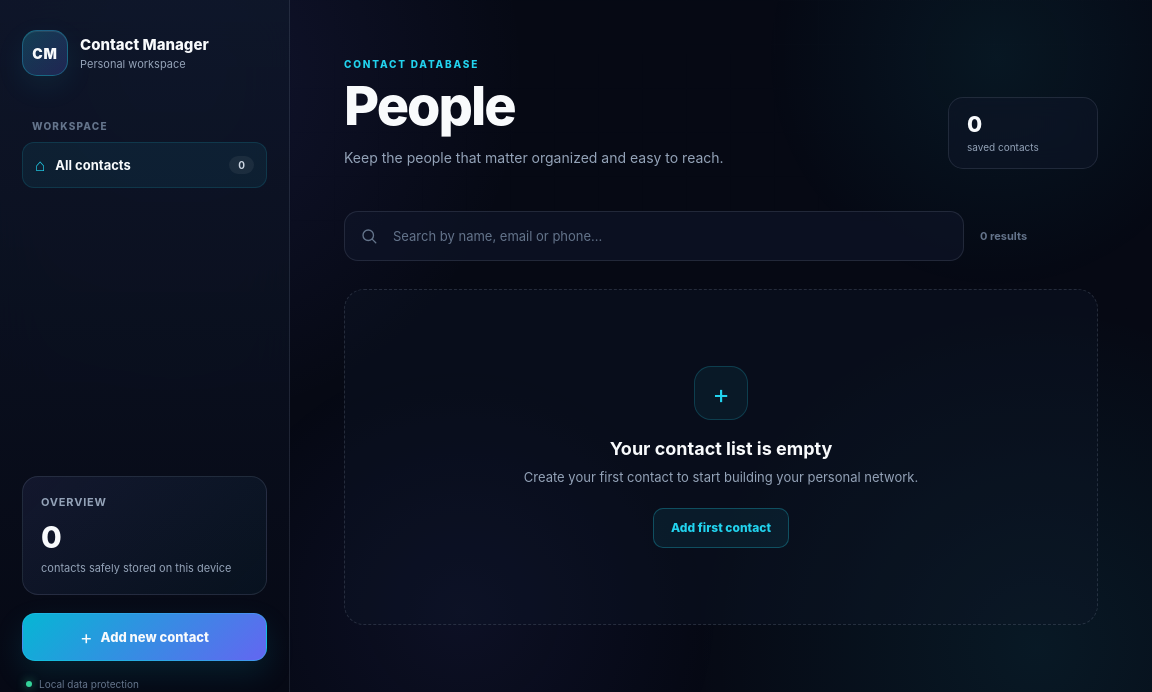
Test case: Contact Manager › validates invalid contact data
This screenshot has width=1152, height=692.
Click the button "+ Add new contact": (145, 637) [22, 613, 267, 661]
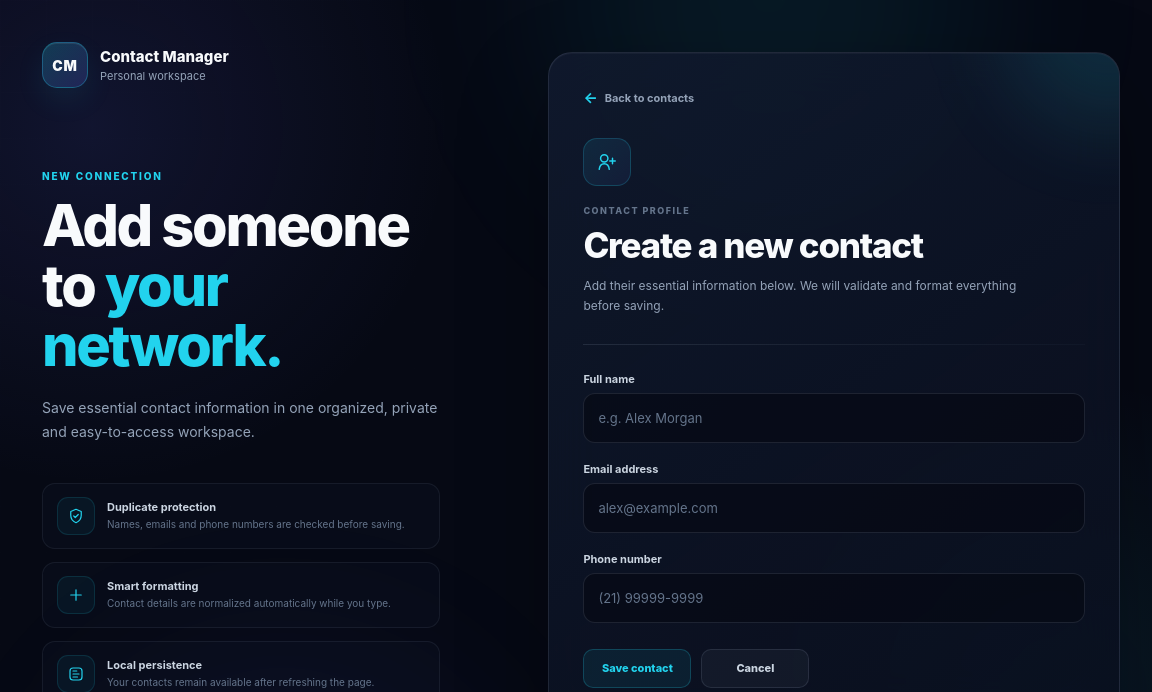
In the field with id "name": (834, 418) [583, 393, 1085, 443], type "A"
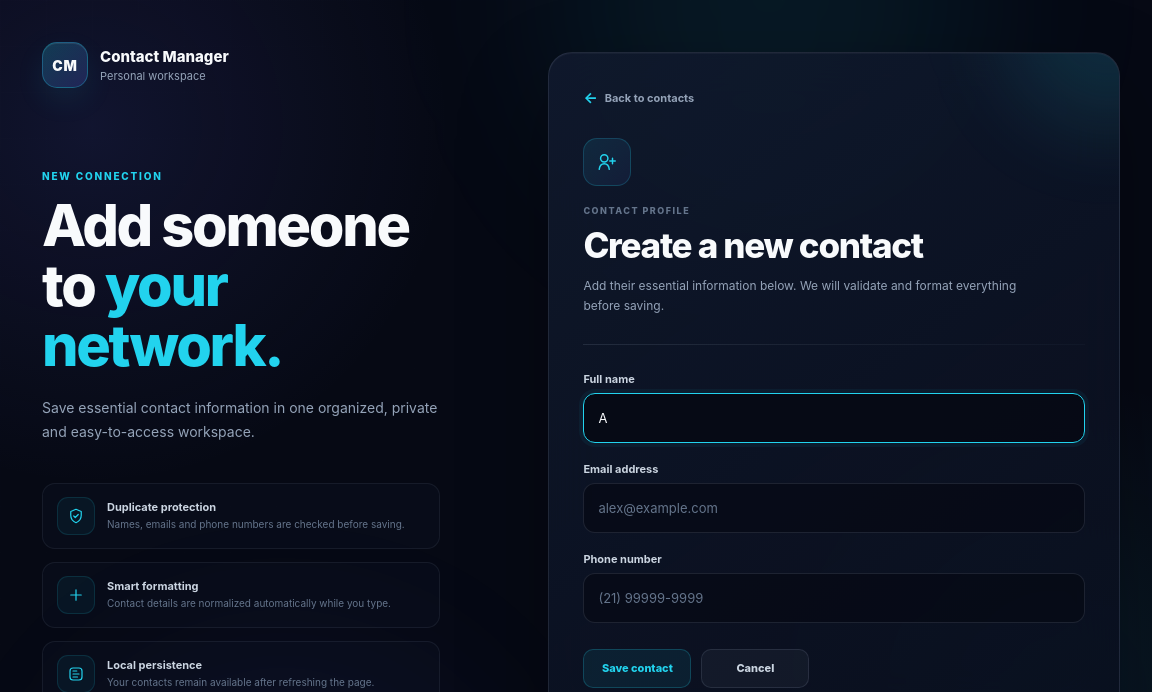
In the field with id "email": (834, 508) [583, 483, 1085, 533], type "invalid-email"
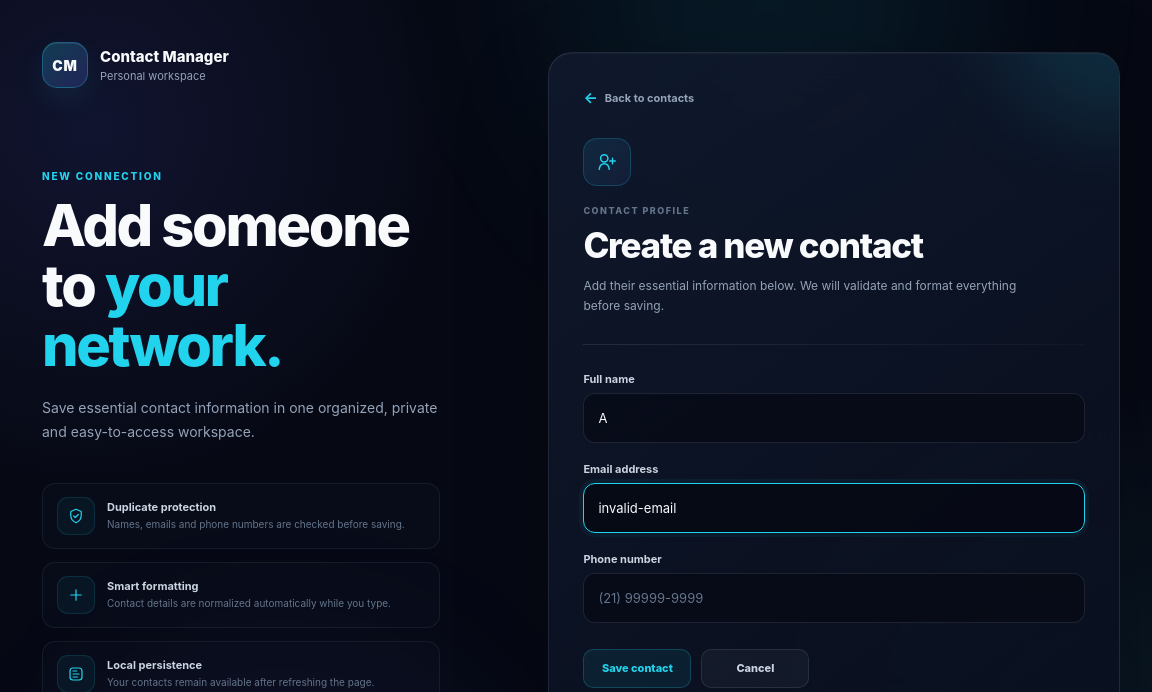
In the field labelled "Phone number": (834, 598) [583, 573, 1085, 623], type "123"
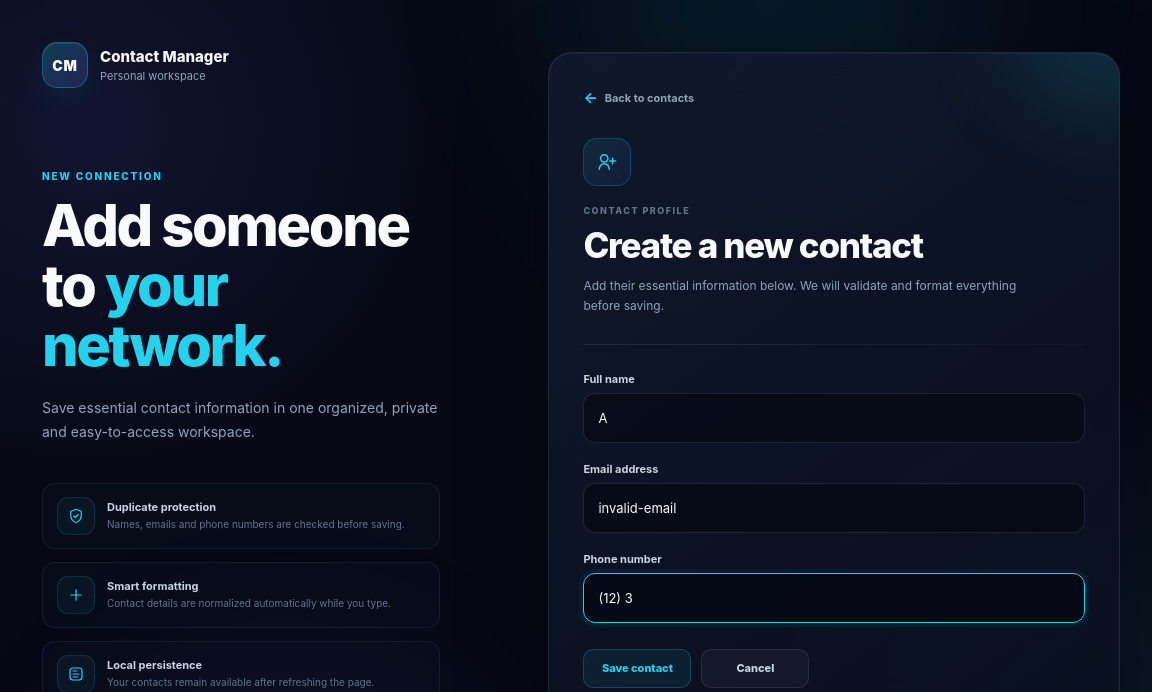
Click the button "Save contact": (637, 669) [583, 649, 691, 688]
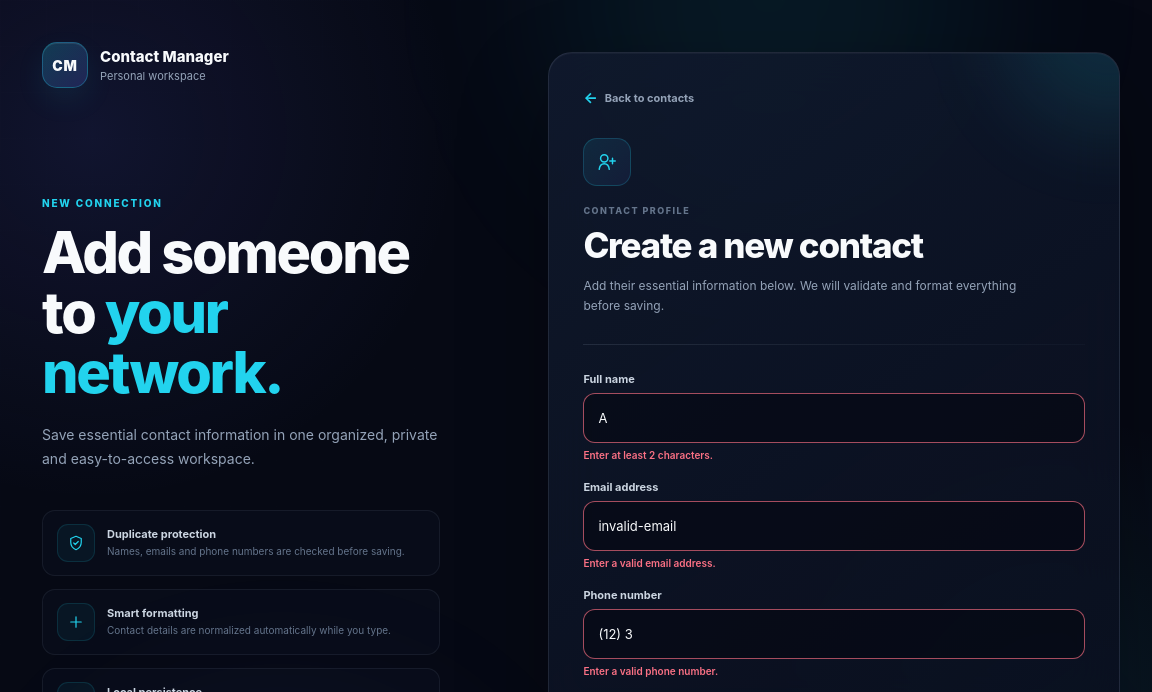
Now the text "Enter at least 2 characters." is shown, box [583, 449, 713, 461]
Now the text "Enter a valid email address." is shown, box [583, 557, 716, 569]
Now the text "Enter a valid phone number." is shown, box [583, 665, 718, 677]
